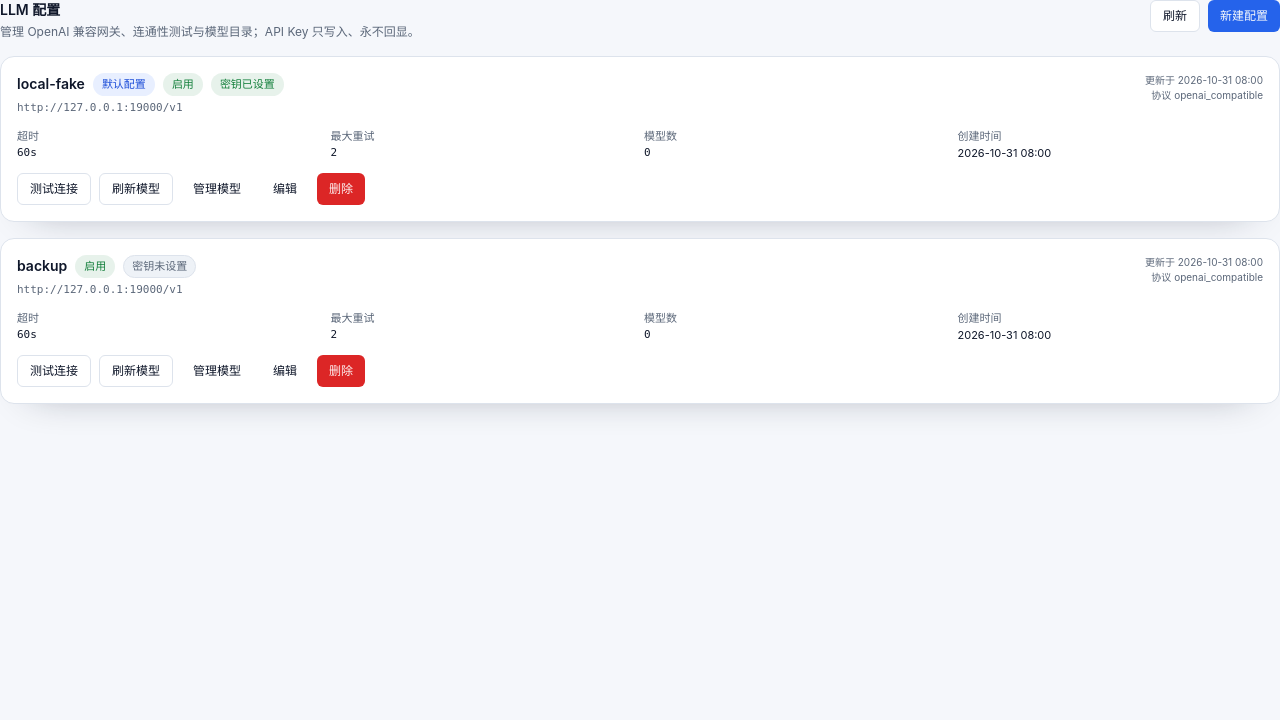
Test case: LLMSettings › lists configs with api_key_set state and never prefills a key
Expected: the element with test id "llm-config-7001" shows "local-fake", left=17, top=75, right=85, bottom=92
Expected: the text "密钥已设置" is shown, left=211, top=73, right=284, bottom=96
Click the button "编辑" below "local-fake" at (285, 189), box left=261, top=173, right=309, bottom=205
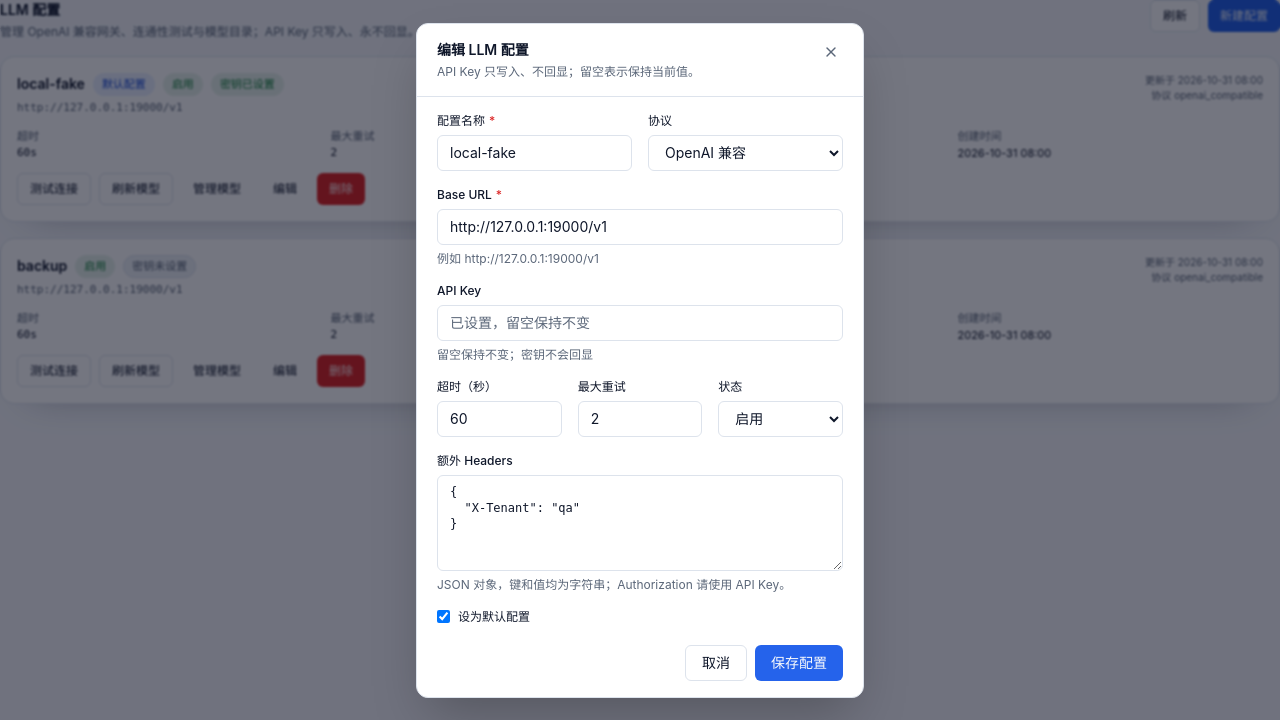
Expected: the password field labelled "API Key" is empty, left=437, top=304, right=843, bottom=340
Expected: the text "留空保持不变；密钥不会回显" is shown, left=437, top=346, right=593, bottom=362
